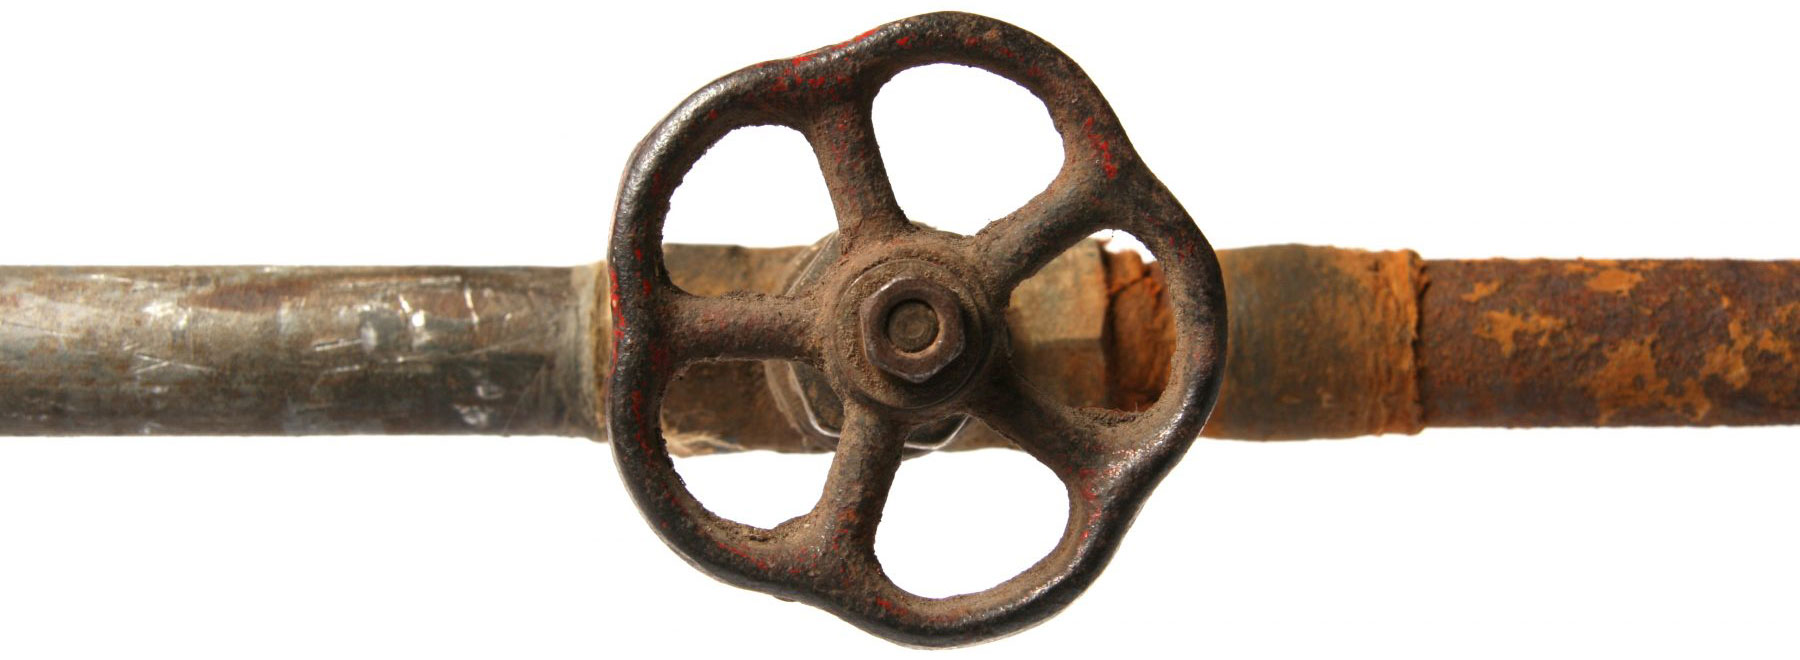Moderate: (600, 8, 1234, 652), (1109, 242, 1794, 430)
